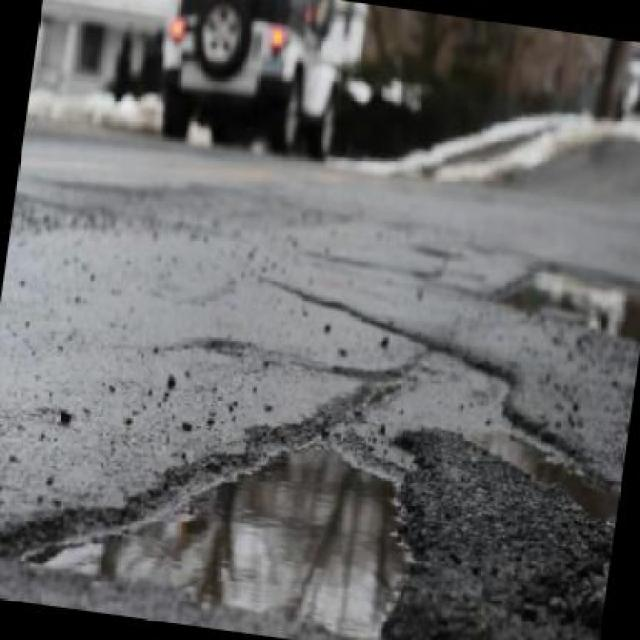pothole1: (0, 373, 438, 638), (341, 323, 636, 532), (484, 249, 638, 346)
